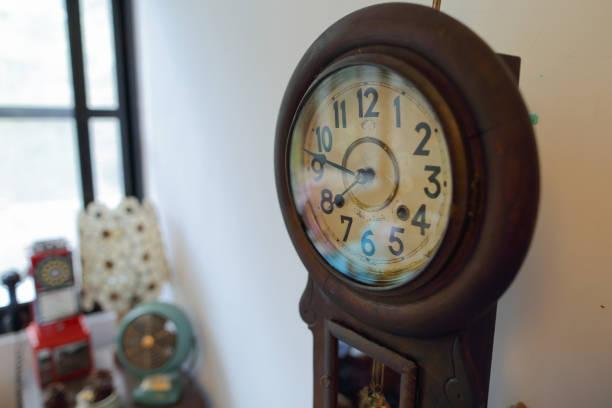clock: (287, 54, 459, 287)
fan: (114, 309, 196, 399)
table: (8, 342, 229, 408)
